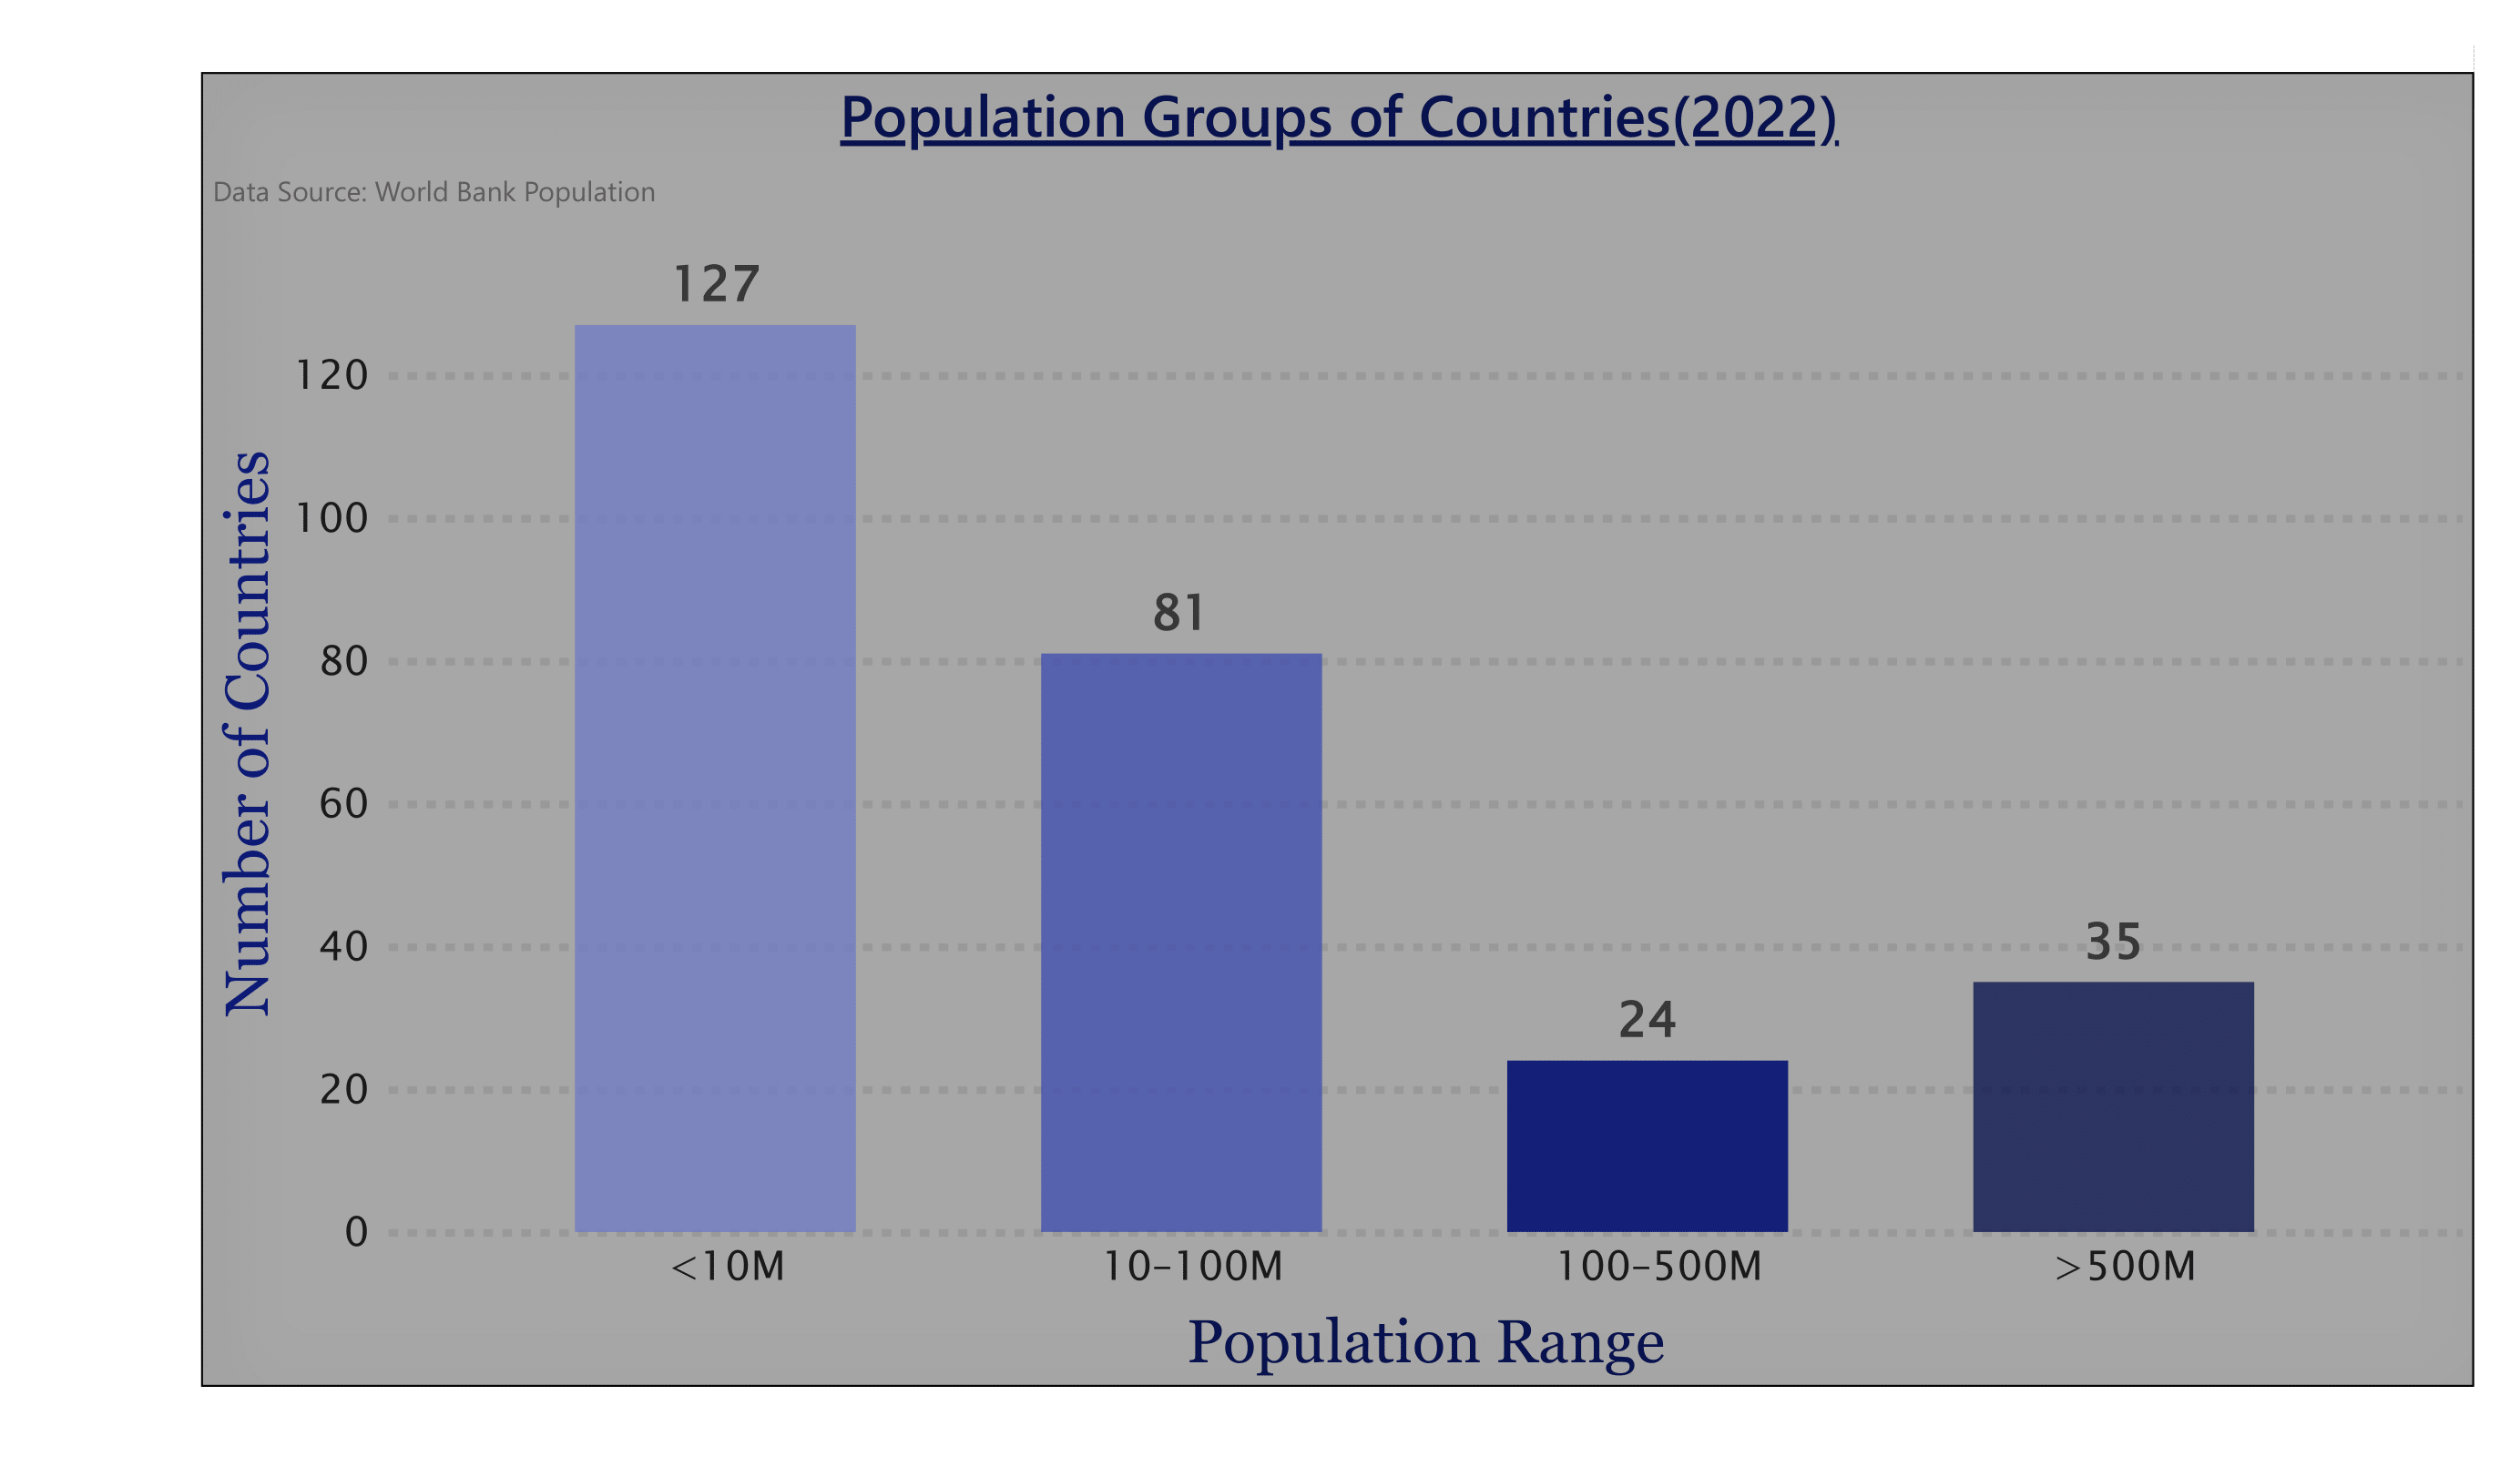

The dashboard page shown, as its layout file describes it:
{"tool":"powerbi","page":{"name":"Page 1","canvas":[1280,720],"ordinal":0},"visuals":[{"type":"clusteredColumnChart","title":"Population Groups of Countries(2022)","fields":{"Category":["Population2022.PopGroup"],"Y":["CountNonNull(Population2022.Country name)"]},"box":[81.6,13.6,1198.7,693.7],"z":0}]}

Visuals, with their boxes in screenshot pixels (x1, y1, x2, y2):
"Population Groups of Countries(2022)" clusteredColumnChart: Rect(200, 71, 2474, 1388)
